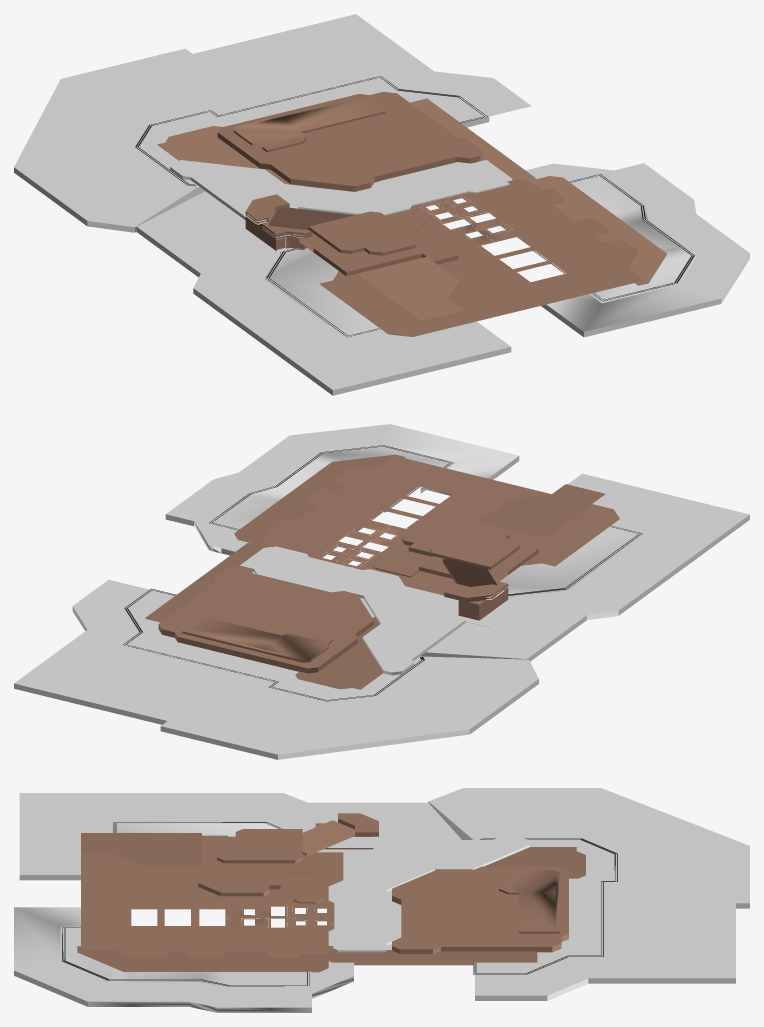
File: spaceport_wb.glb
3 views of the same model, one above another, from view 1: azimuth 30°, elevation 25°; view 2: azimuth 150°, elevation 25°; view 3: azimuth 270°, elevation 25° (orthographic). The views are drawn at different scales.
Size of the model in its own units: 4460 by 309 by 6320.
